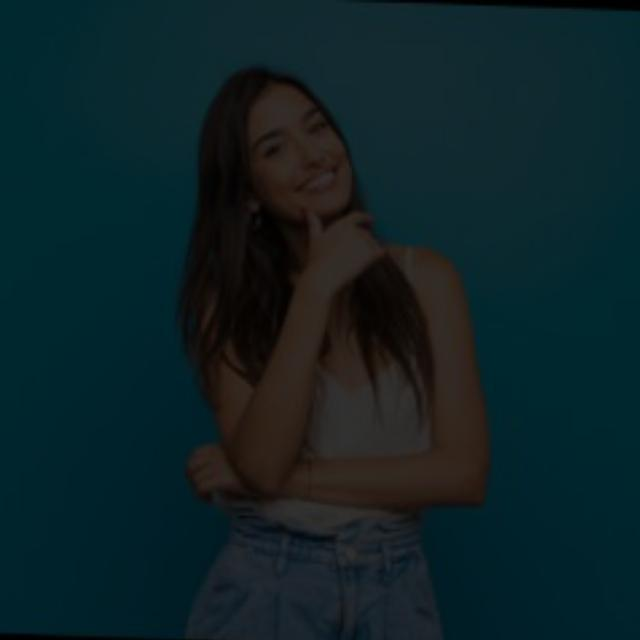Happy: (156, 96, 400, 239)
